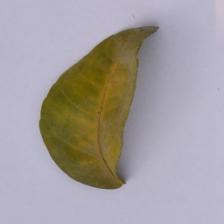greening: (34, 13, 162, 194)
